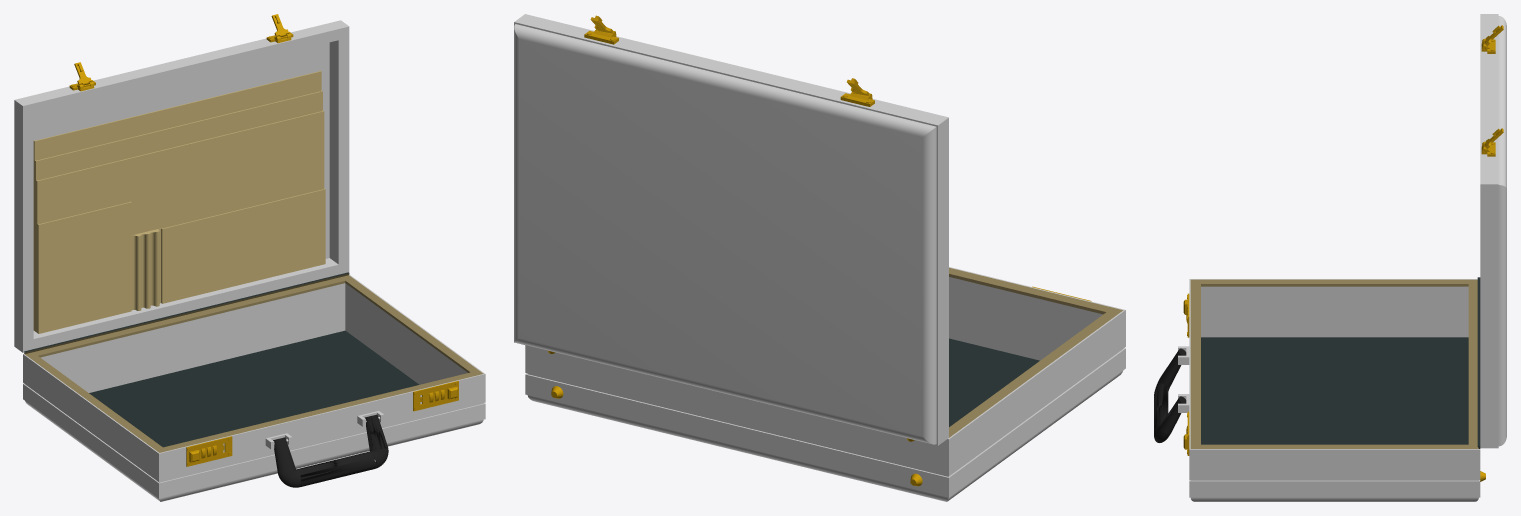
The model's file is open_briefcase.fbx.
The picture shows the model from 3 angles, left to right: view 1: azimuth 30°, elevation 25°; view 2: azimuth 150°, elevation 25°; view 3: azimuth 270°, elevation 25°; orthographic projection. The views are drawn at different scales.
Parts seen in each view (by area): view 1: Group1, LockMech1, LockMech2; view 2: Group1; view 3: Group1.
Boxes of the visible parts, x1,y1,x2,y2 form: Group1: [14, 20, 485, 501]; LockMech1: [186, 436, 232, 466]; LockMech2: [413, 380, 458, 411]; Group1: [514, 14, 1125, 501]; Group1: [1154, 14, 1506, 501].
Size of the model in its own units: 18 by 16.95 by 15.76.
